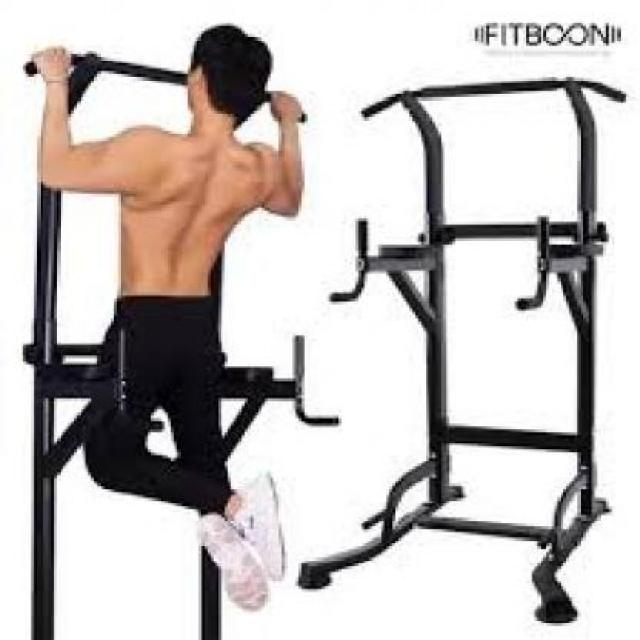chinning dipping: (331, 72, 626, 628)
